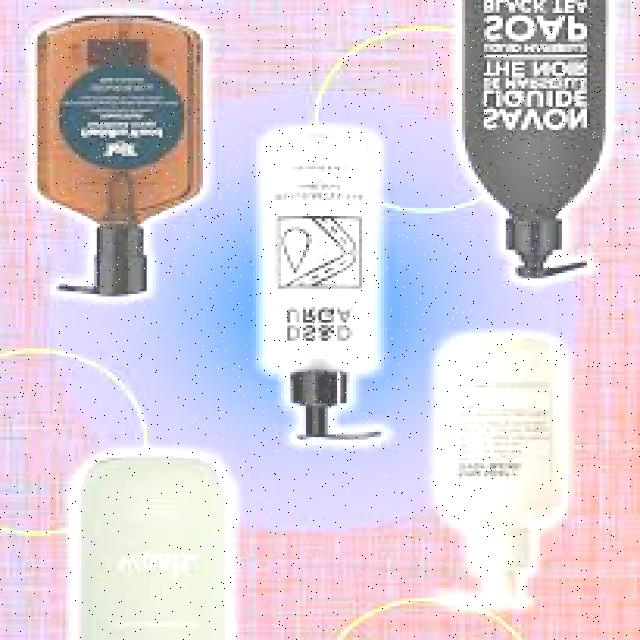liquid soap: (2, 1, 221, 309), (410, 331, 578, 616), (254, 118, 395, 452), (459, 0, 621, 289), (59, 455, 240, 640)
